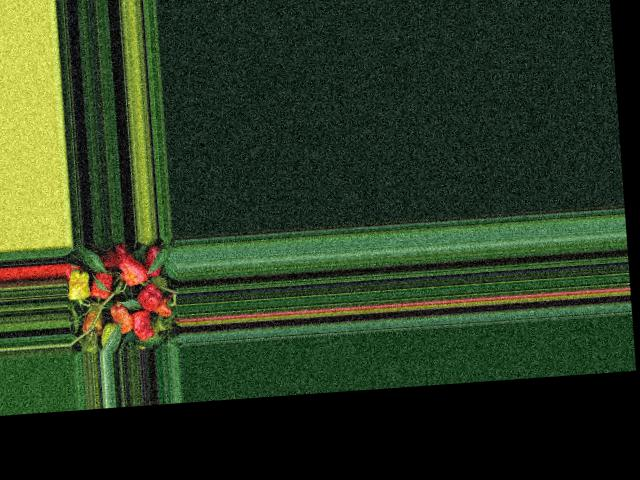bell_pepper: (154, 301, 174, 317)
